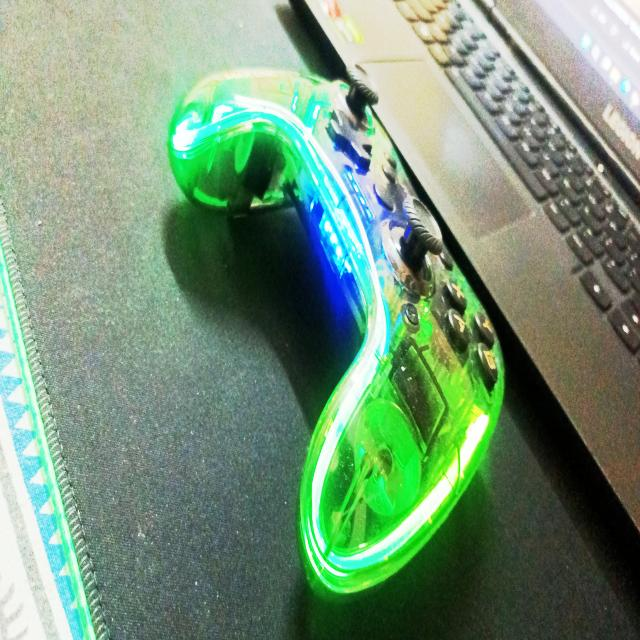gamepad: (166, 64, 506, 598)
